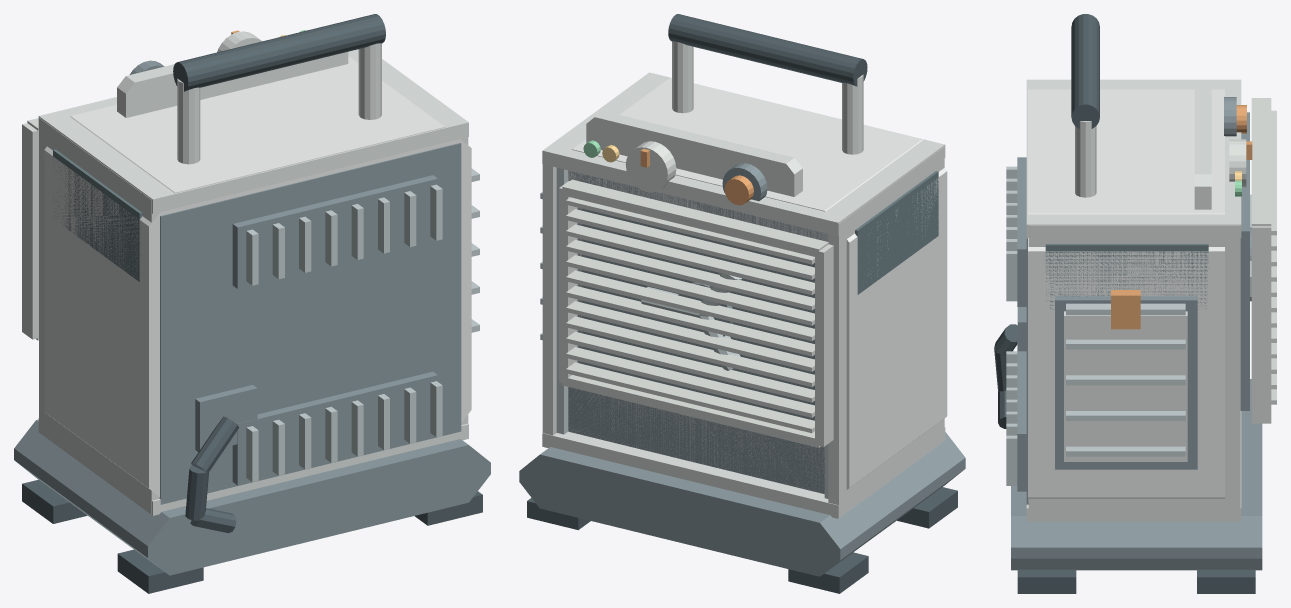
The model's file is portable_utility_heater.glb.
The picture shows the model from 3 angles, left to right: view 1: azimuth 30°, elevation 25°; view 2: azimuth 150°, elevation 25°; view 3: azimuth 270°, elevation 25°; orthographic projection. The views are drawn at different scales.
Visible parts, largest first — view 1: static_equipment_dark_alloy, static_equipment_white_ceramic, static_equipment_warm_panel, static_equipment_satin_steel, static_equipment_black_rubber, static_equipment_alloy, static_equipment_rubber_gasket; view 2: static_equipment_satin_steel, static_equipment_dark_alloy, static_equipment_white_ceramic, static_equipment_warm_panel, static_equipment_black_rubber, static_equipment_rubber_gasket, static_equipment_alloy, heat_level_dial_satin_steel, blower_blades_alloy, on_off_knob_dark_alloy, on_off_knob_orange; view 3: static_equipment_white_ceramic, static_equipment_dark_alloy, static_equipment_satin_steel, filter_cartridge_warm_panel, static_equipment_alloy, static_equipment_warm_panel, static_equipment_black_rubber, static_equipment_rubber_gasket, filter_release_tab_orange, heat_level_dial_satin_steel, on_off_knob_dark_alloy.
Part boxes in pixels (x1,y1,x2,y2): static_equipment_dark_alloy: [14, 143, 490, 575]; static_equipment_white_ceramic: [44, 56, 471, 496]; static_equipment_warm_panel: [38, 49, 468, 515]; static_equipment_satin_steel: [22, 43, 468, 514]; static_equipment_black_rubber: [22, 14, 482, 593]; static_equipment_alloy: [246, 168, 479, 482]; static_equipment_rubber_gasket: [53, 149, 142, 281]; static_equipment_satin_steel: [542, 41, 944, 517]; static_equipment_dark_alloy: [519, 170, 965, 576]; static_equipment_white_ceramic: [568, 77, 947, 493]; static_equipment_warm_panel: [542, 72, 945, 518]; static_equipment_black_rubber: [527, 14, 957, 593]; static_equipment_rubber_gasket: [855, 171, 938, 294]; static_equipment_alloy: [540, 167, 828, 498]; heat_level_dial_satin_steel: [625, 141, 676, 192]; blower_blades_alloy: [641, 273, 742, 370]; on_off_knob_dark_alloy: [722, 163, 767, 201]; on_off_knob_orange: [724, 175, 753, 205]; static_equipment_white_ceramic: [1028, 89, 1224, 502]; static_equipment_dark_alloy: [1011, 112, 1262, 570]; static_equipment_satin_steel: [1028, 98, 1276, 521]; filter_cartridge_warm_panel: [1064, 311, 1187, 461]; static_equipment_alloy: [1006, 166, 1185, 485]; static_equipment_warm_panel: [1026, 79, 1241, 521]; static_equipment_black_rubber: [994, 14, 1255, 593]; static_equipment_rubber_gasket: [1045, 244, 1208, 309]; filter_release_tab_orange: [1111, 290, 1140, 329]; heat_level_dial_satin_steel: [1229, 139, 1246, 187]; on_off_knob_dark_alloy: [1224, 97, 1236, 136].
Bounding box in the file's own units: 0.593 × 0.7442 × 0.4164.
